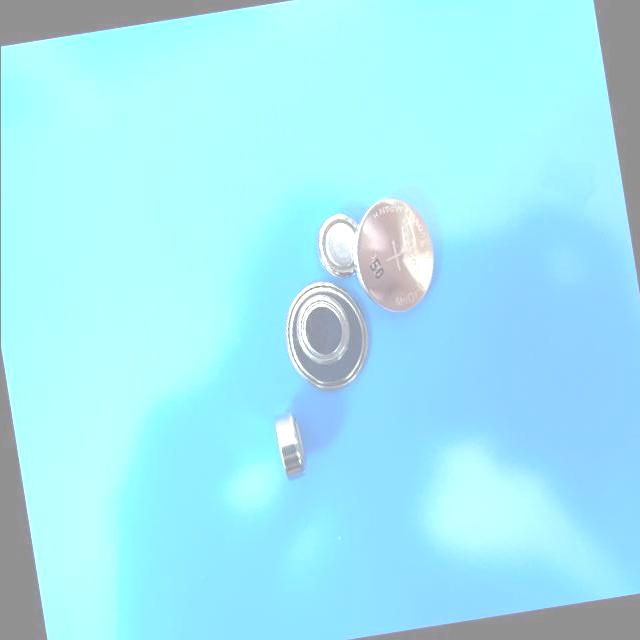COIN: (344, 188, 444, 319), (277, 274, 375, 393), (292, 291, 354, 369), (310, 207, 369, 282), (269, 406, 316, 485)
